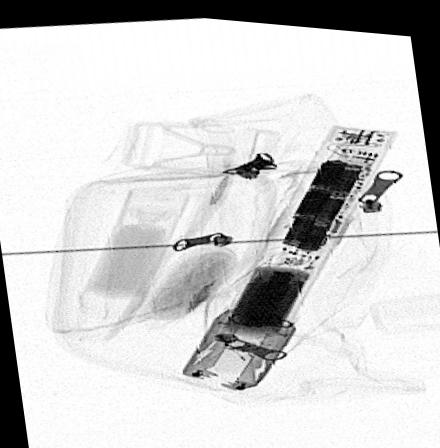Baton: (178, 117, 400, 389)
